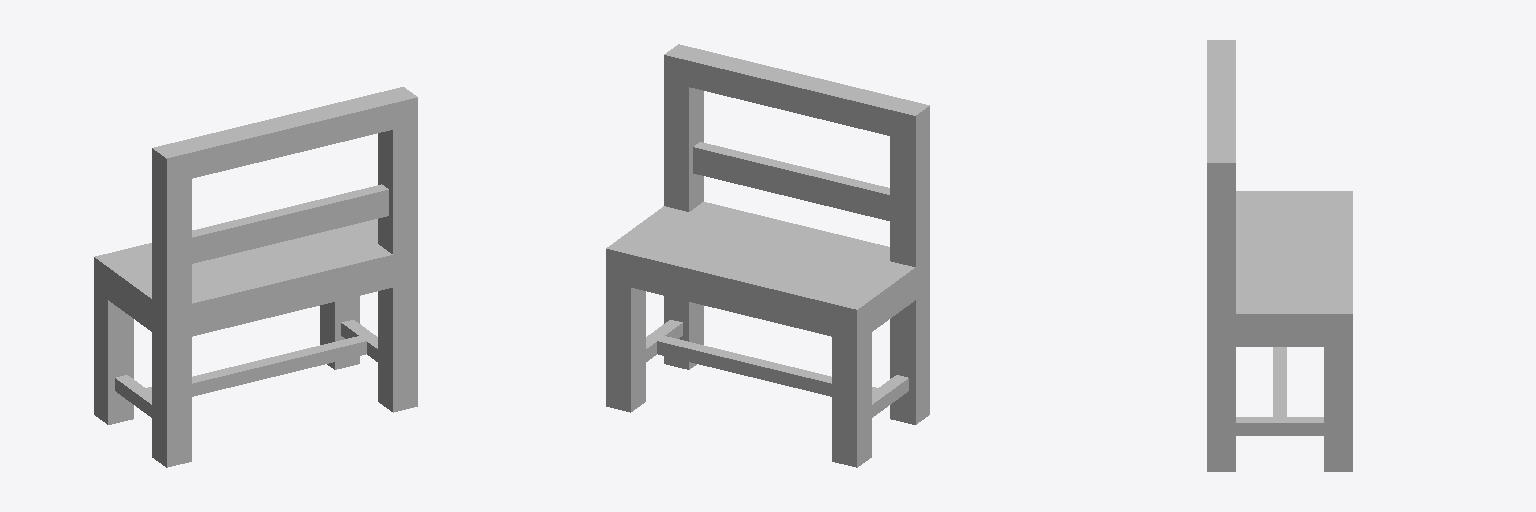
File: bench.obj
3 views of the same model, side by side, from view 1: azimuth 30°, elevation 25°; view 2: azimuth 150°, elevation 25°; view 3: azimuth 270°, elevation 25° (orthographic).
Parts seen in each view (by area): view 1: bench; view 2: bench; view 3: bench.
Boxes of the visible parts, x1,y1,x2,y2 form: bench: [94, 87, 417, 467]; bench: [606, 44, 929, 467]; bench: [1207, 40, 1352, 471].
Size of the model in its own units: 0.4 by 0.47 by 0.2.